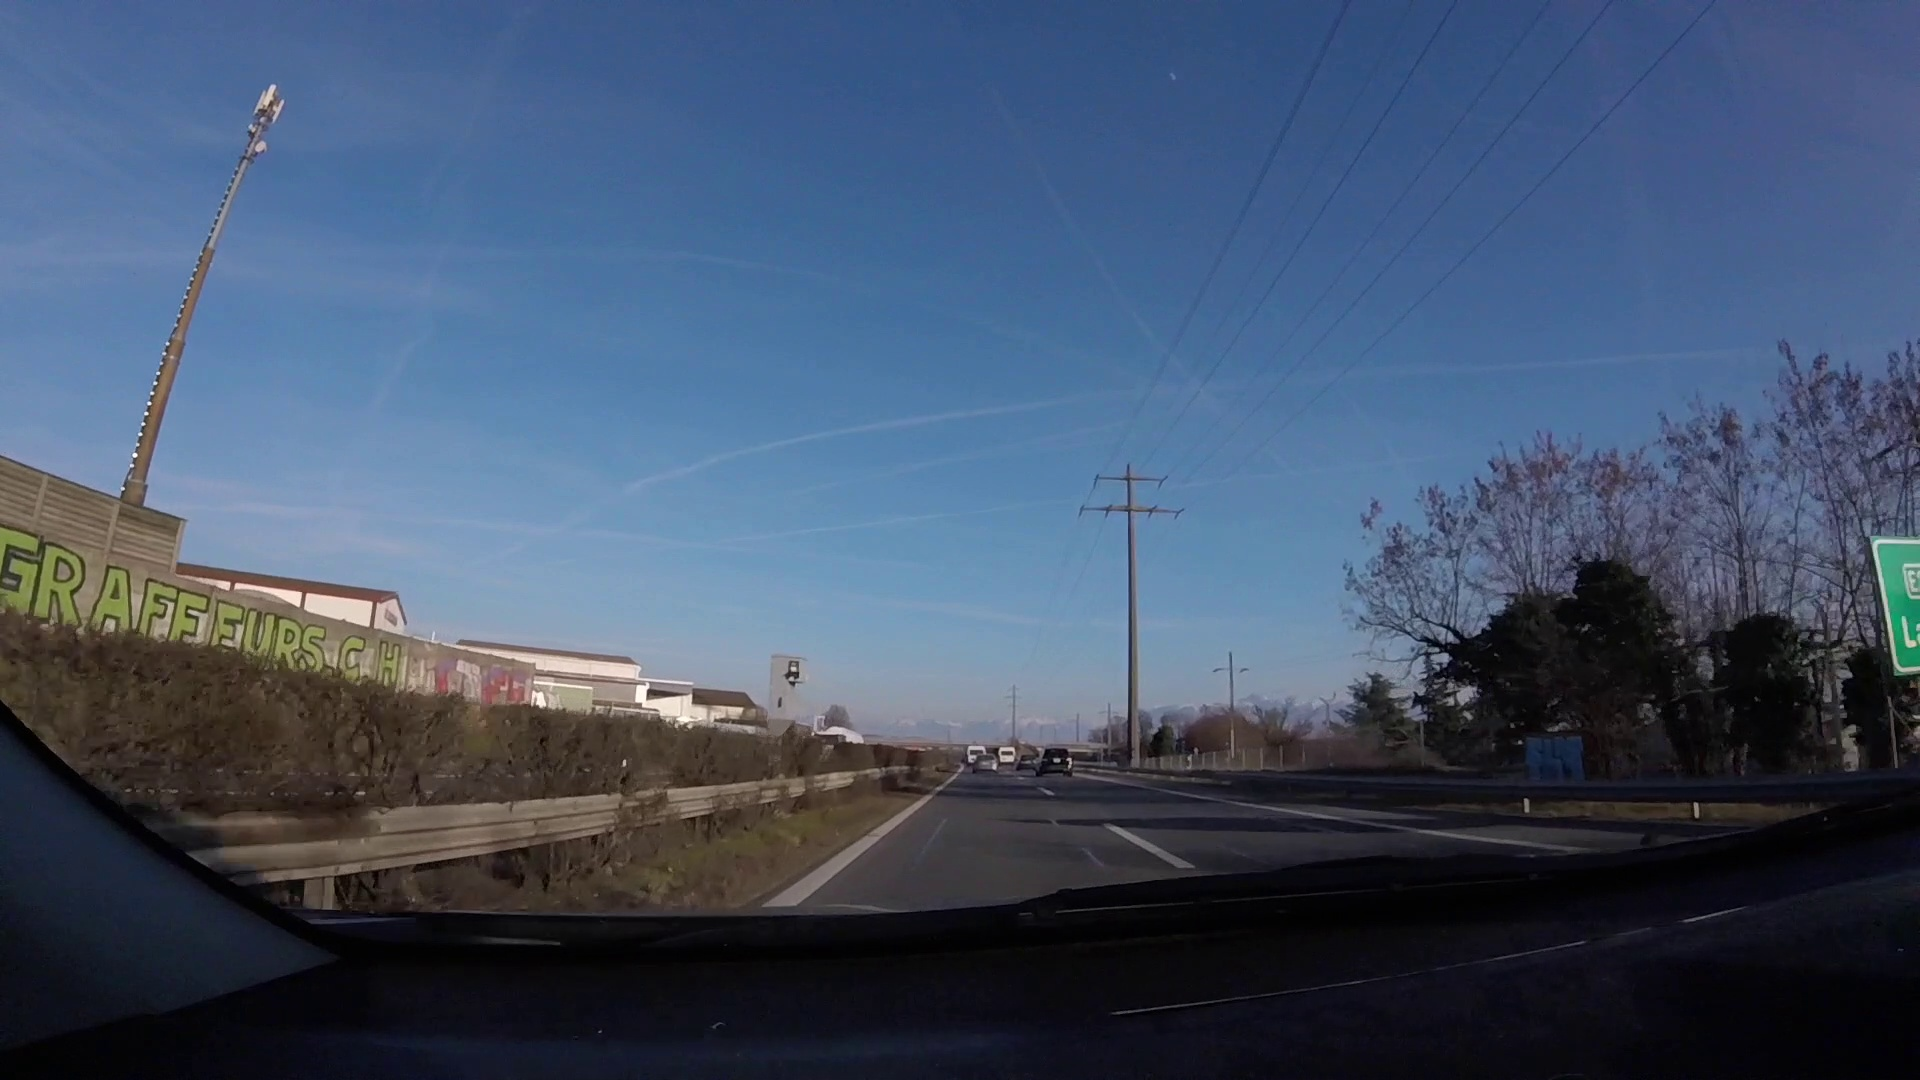radar: (766, 651, 811, 746)
